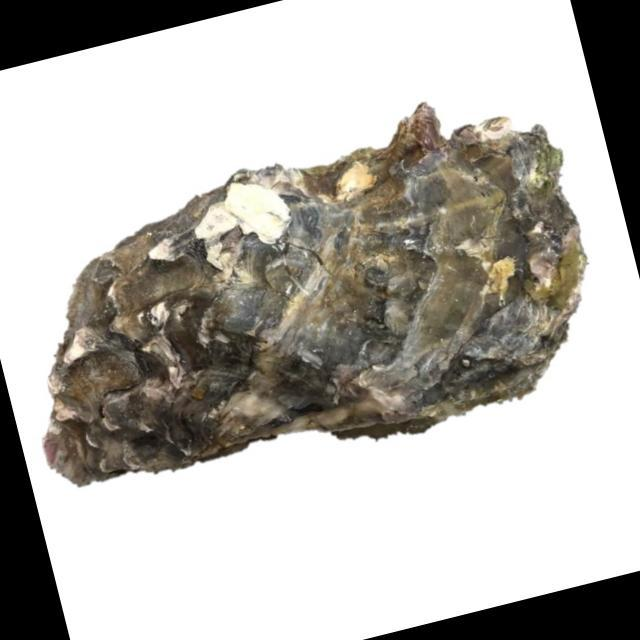Oyster- Indeterminate: (42, 103, 589, 490)
